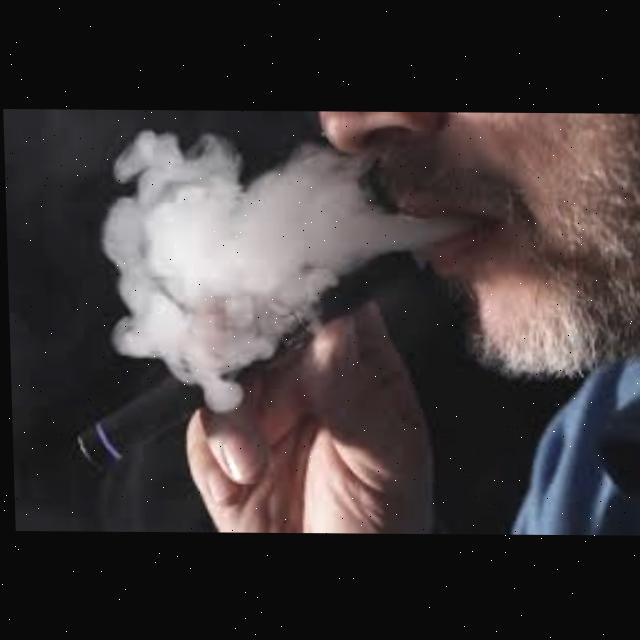vape: (70, 243, 426, 472)
